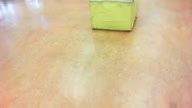cube: (87, 1, 139, 33)
